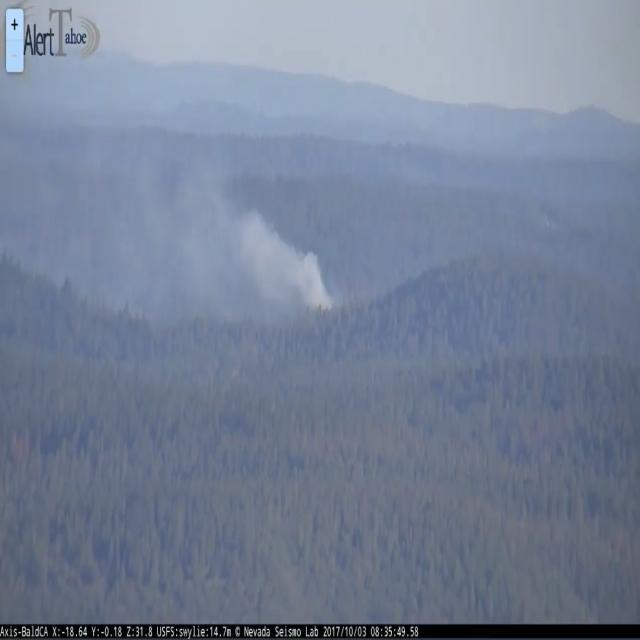smoke: (122, 184, 332, 317)
